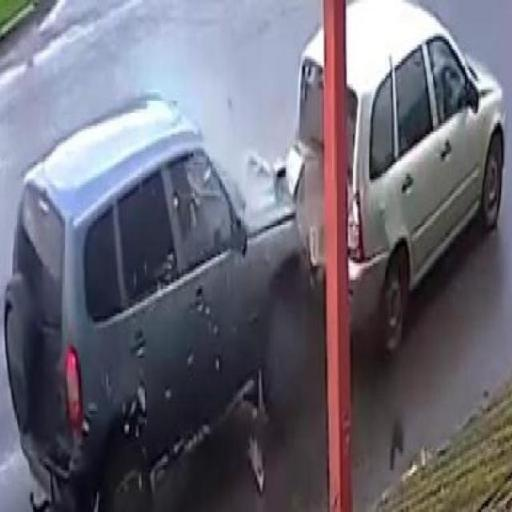小汽车撞小汽车: (6, 28, 504, 486)
